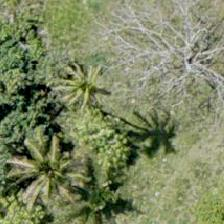Kelapa_Sawit: (42, 31, 132, 121), (67, 82, 157, 172), (0, 121, 59, 211)
